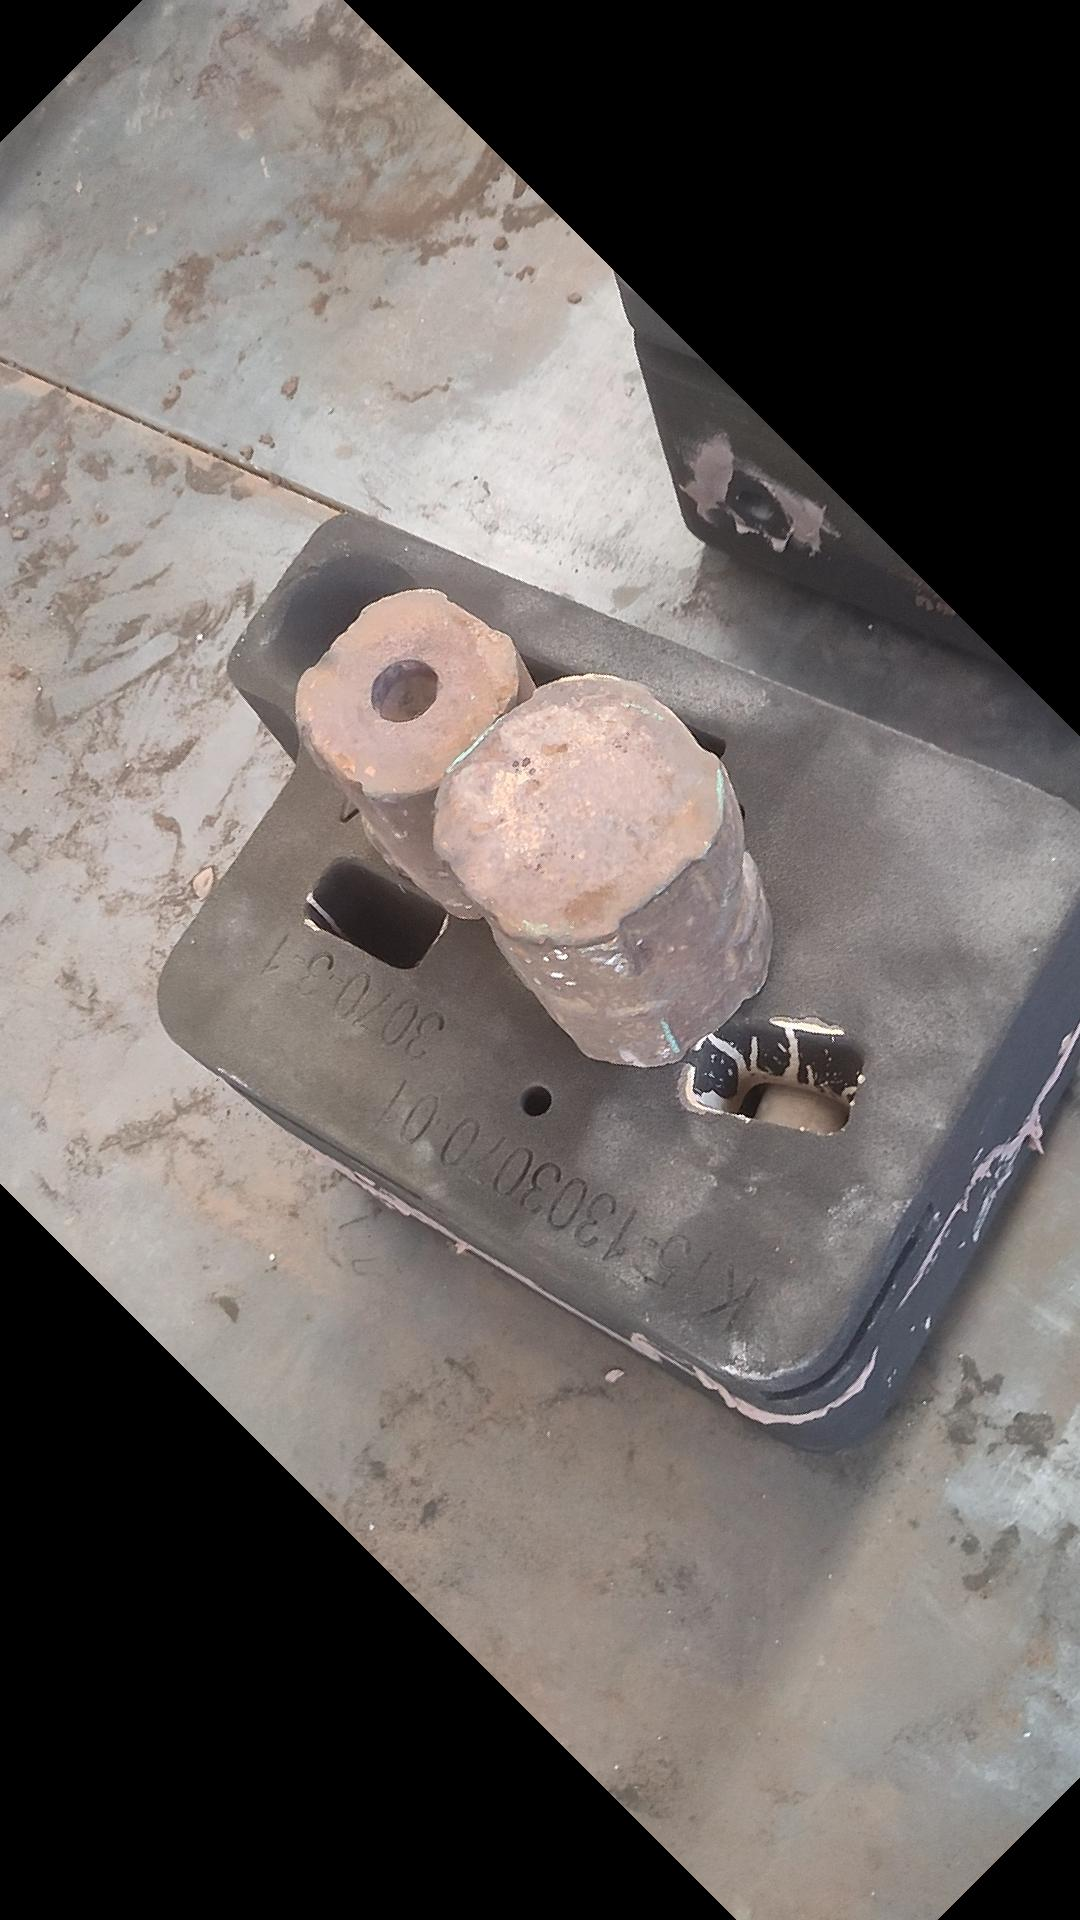pouring hole: (262, 555, 427, 688)
